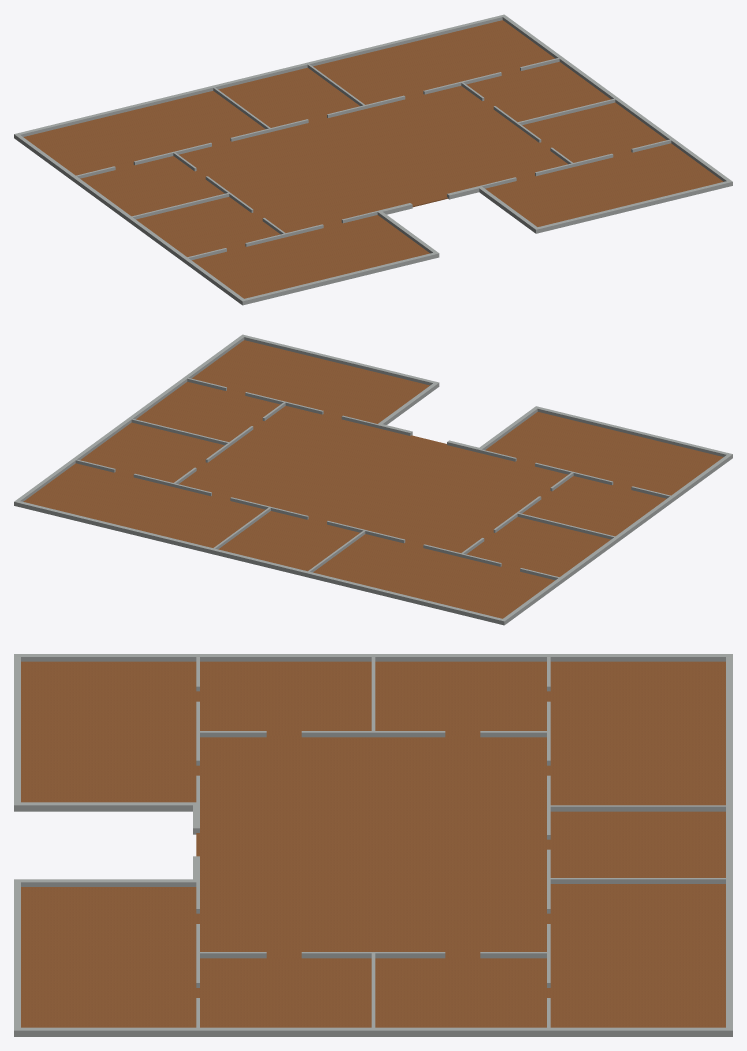
File: floor.glb
3 renders of one model, top to bottom at view 1: azimuth 30°, elevation 25°; view 2: azimuth 150°, elevation 25°; view 3: azimuth 270°, elevation 25°, orthographic. The views are drawn at different scales.
Parts seen in each view (by area): view 1: GalleryFoundation-hub, GalleryFoundation-bottom-left, GalleryFoundation-bottom-right, GalleryFoundation-top-right, GalleryFoundation-top-left, GalleryFoundation-side-right-top, GalleryFoundation-side-left-top, GalleryFoundation-side-right-bottom, GalleryFoundation-side-left-bottom, GalleryFoundation-bottom-center, HQFoundationWall-horizontal-m1206-0-part-0, HQFoundationWall-vertical-m1500-0-part-0 (+4 smaller); view 2: GalleryFoundation-hub, GalleryFoundation-bottom-right, GalleryFoundation-bottom-left, GalleryFoundation-top-left, GalleryFoundation-top-right, GalleryFoundation-side-right-bottom, GalleryFoundation-side-left-bottom, GalleryFoundation-side-right-top, GalleryFoundation-side-left-top, GalleryFoundation-bottom-center, HQFoundationWall-horizontal-m1206-0-part-0, HQFoundationWall-vertical-m1500-0-part-0 (+3 smaller); view 3: GalleryFoundation-hub, GalleryFoundation-bottom-left, GalleryFoundation-bottom-right, GalleryFoundation-top-left, GalleryFoundation-top-right, GalleryFoundation-side-left-top, GalleryFoundation-side-left-bottom, GalleryFoundation-side-right-top, GalleryFoundation-side-right-bottom, GalleryFoundation-bottom-center, HQFoundationWall-vertical-1500-0-part-0, HQFoundationWall-vertical-m1500-0-part-0 (+9 smaller).
Boxes of the visible parts, left/top/right/bottom form: GalleryFoundation-hub: left=179, top=86, right=567, bottom=232; GalleryFoundation-bottom-left: left=23, top=91, right=265, bottom=175; GalleryFoundation-bottom-right: left=313, top=20, right=554, bottom=104; GalleryFoundation-top-right: left=485, top=143, right=723, bottom=226; GalleryFoundation-top-left: left=192, top=215, right=429, bottom=298; GalleryFoundation-side-right-top: left=522, top=102, right=666, bottom=162; GalleryFoundation-side-left-top: left=136, top=197, right=280, bottom=256; GalleryFoundation-side-right-bottom: left=466, top=61, right=610, bottom=121; GalleryFoundation-side-left-bottom: left=80, top=156, right=224, bottom=216; GalleryFoundation-bottom-center: left=218, top=67, right=359, bottom=127; HQFoundationWall-horizontal-m1206-0-part-0: left=14, top=14, right=506, bottom=139; HQFoundationWall-vertical-m1500-0-part-0: left=14, top=134, right=246, bottom=304; GalleryFoundation-hub: left=179, top=406, right=567, bottom=552; GalleryFoundation-bottom-right: left=23, top=463, right=265, bottom=547; GalleryFoundation-bottom-left: left=313, top=534, right=554, bottom=618; GalleryFoundation-top-left: left=485, top=412, right=723, bottom=495; GalleryFoundation-top-right: left=192, top=340, right=429, bottom=423; GalleryFoundation-side-right-bottom: left=80, top=422, right=224, bottom=482; GalleryFoundation-side-left-bottom: left=466, top=517, right=610, bottom=576; GalleryFoundation-side-right-top: left=136, top=381, right=280, bottom=441; GalleryFoundation-side-left-top: left=522, top=476, right=666, bottom=536; GalleryFoundation-bottom-center: left=218, top=511, right=359, bottom=571; HQFoundationWall-horizontal-m1206-0-part-0: left=14, top=500, right=506, bottom=625; HQFoundationWall-vertical-m1500-0-part-0: left=501, top=454, right=732, bottom=625; GalleryFoundation-hub: left=196, top=736, right=550, bottom=958; GalleryFoundation-bottom-left: left=550, top=661, right=725, bottom=805; GalleryFoundation-bottom-right: left=550, top=884, right=725, bottom=1027; GalleryFoundation-top-left: left=21, top=661, right=196, bottom=802; GalleryFoundation-top-right: left=21, top=887, right=196, bottom=1027; GalleryFoundation-side-left-top: left=196, top=661, right=371, bottom=735; GalleryFoundation-side-left-bottom: left=375, top=661, right=550, bottom=735; GalleryFoundation-side-right-top: left=196, top=958, right=371, bottom=1027; GalleryFoundation-side-right-bottom: left=375, top=958, right=550, bottom=1027; GalleryFoundation-bottom-center: left=550, top=811, right=725, bottom=877; HQFoundationWall-vertical-1500-0-part-0: left=14, top=1027, right=732, bottom=1036; HQFoundationWall-vertical-m1500-0-part-0: left=14, top=654, right=732, bottom=661.
Bounding box in the file's own units: 3048 × 24 × 2460.
Materials: 4 (3 with a texture image).
